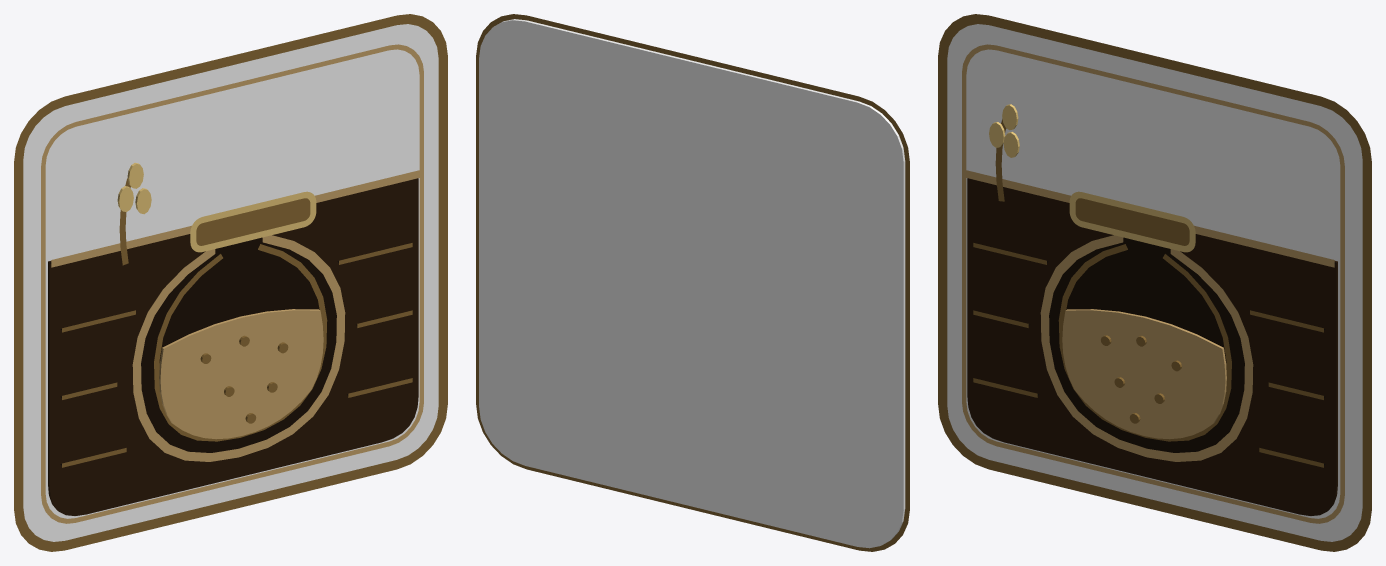
File: obj-zernovaya-yama.glb
3 views of the same model, side by side, from view 1: azimuth 30°, elevation 25°; view 2: azimuth 150°, elevation 25°; view 3: azimuth 330°, elevation 25° (orthographic).
Visible parts, largest first — view 1: obj-zernovaya-yama; view 2: obj-zernovaya-yama; view 3: obj-zernovaya-yama.
Part boxes in pixels (<box>): obj-zernovaya-yama: <box>14,14,447,551</box>; obj-zernovaya-yama: <box>476,14,909,551</box>; obj-zernovaya-yama: <box>938,14,1371,551</box>.
Bounding box in the file's own units: 0.3917 × 0.3917 × 0.0475.
